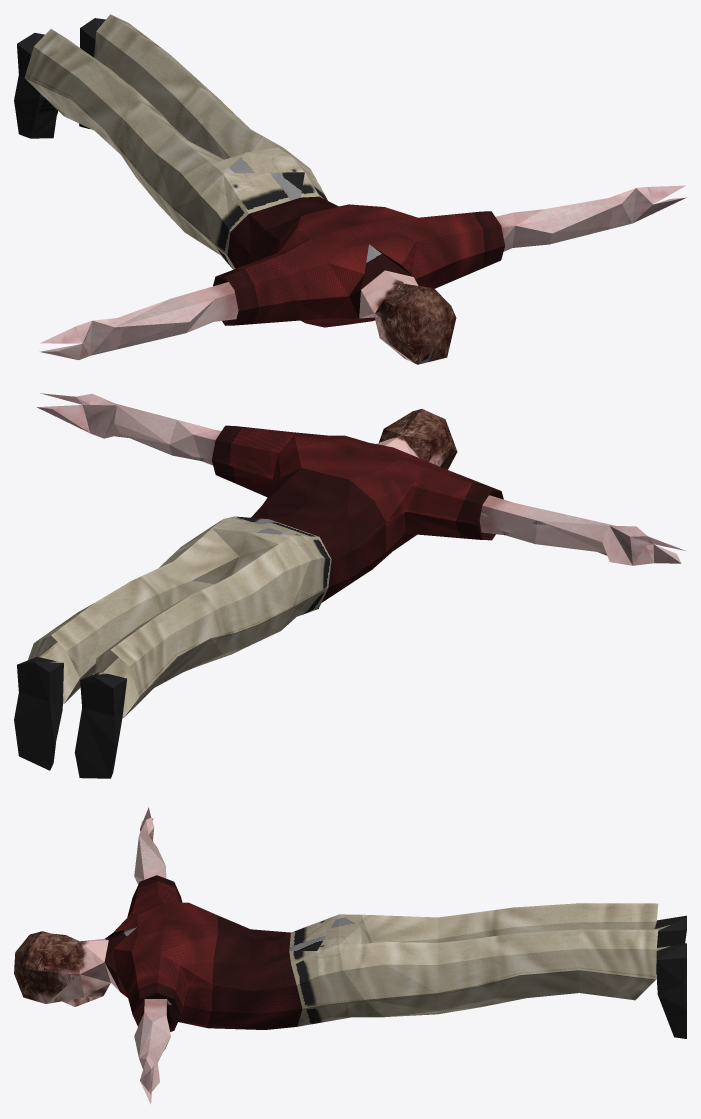
The model's file is tomdrinman1_3klow_wtf.obj.
The picture shows the model from 3 angles, top to bottom: view 1: azimuth 30°, elevation 25°; view 2: azimuth 150°, elevation 25°; view 3: azimuth 270°, elevation 25°; orthographic projection. The views are drawn at different scales.
Visible parts, largest first — view 1: group1; view 2: group1; view 3: group1.
Boxes of the visible parts, x1,y1,x2,y2 form: group1: [14, 14, 686, 364]; group1: [14, 393, 685, 778]; group1: [14, 807, 686, 1104].
Bounding box in the file's own units: 660 × 117 × 657.
